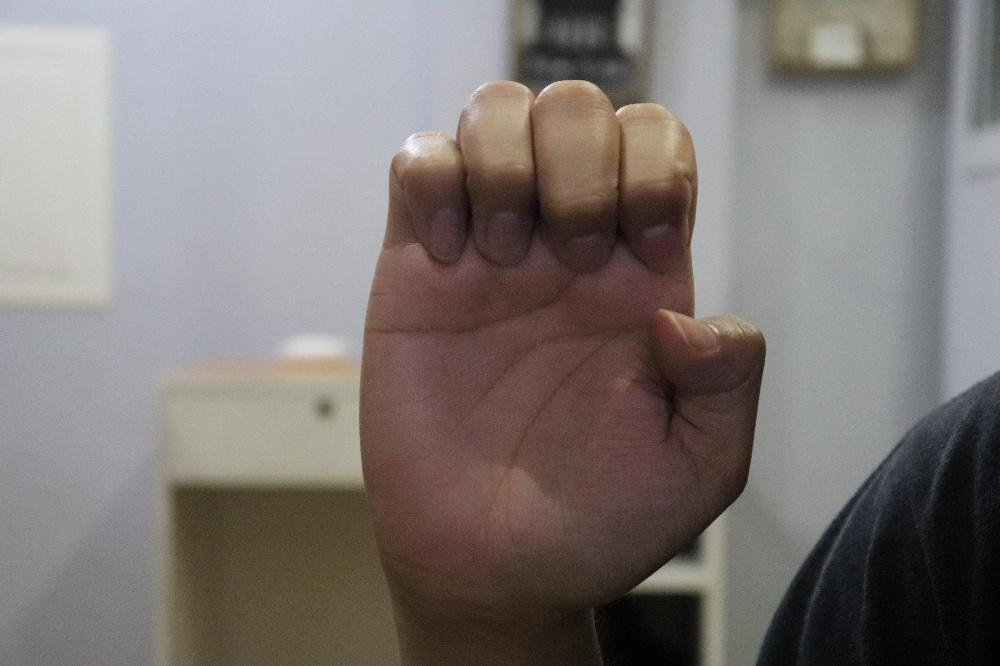e: (358, 77, 765, 611)
